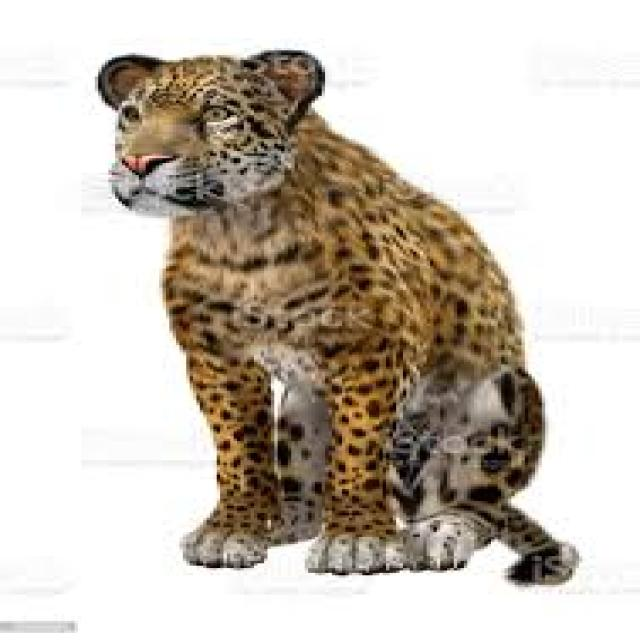Jaguar: (78, 43, 582, 580)
